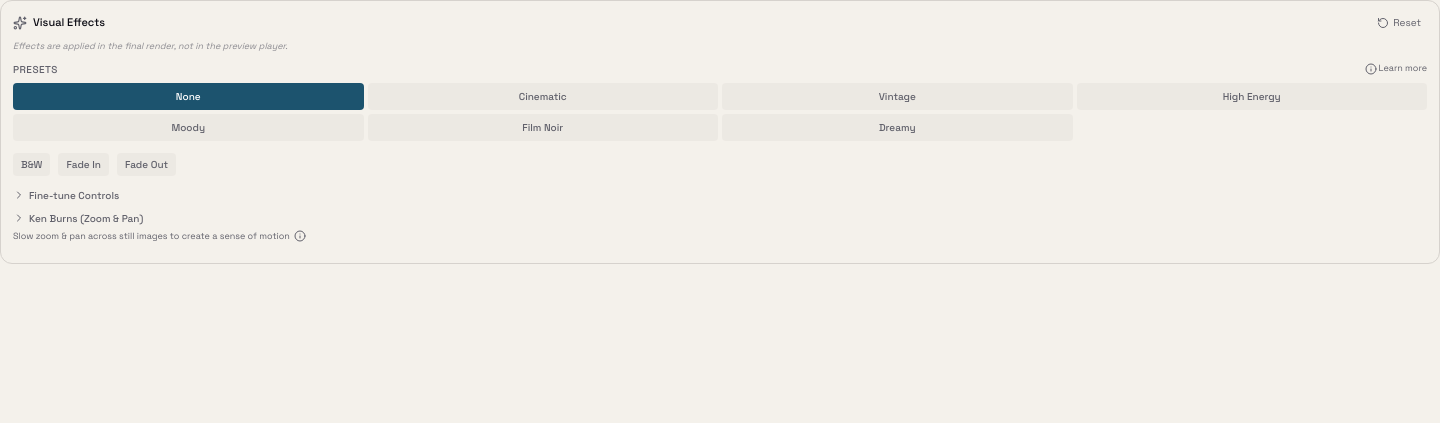
Test: SceneEffectsPanel › renders granular sliders after expanding
// Expand fine-tune controls
Click the button with test id "toggle-granular": (74, 195) top-left (13, 188), bottom-right (1427, 202)
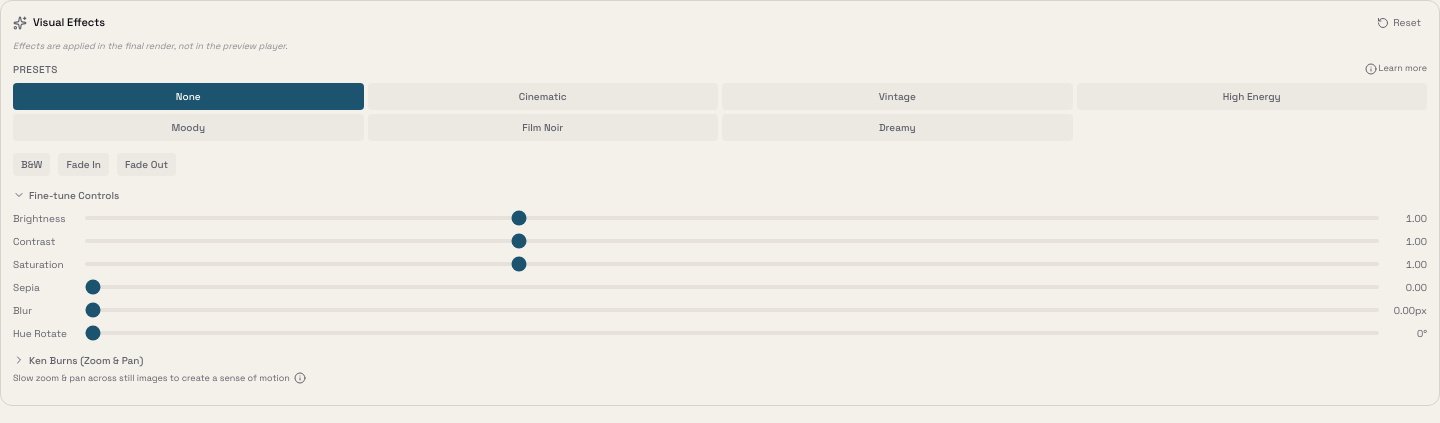
Now the slider with test id "slider-brightness" is shown, box top-left (85, 216), bottom-right (1379, 220)
Now the slider with test id "slider-contrast" is shown, box top-left (85, 239), bottom-right (1379, 243)
Now the slider with test id "slider-saturate" is shown, box top-left (85, 262), bottom-right (1379, 266)
